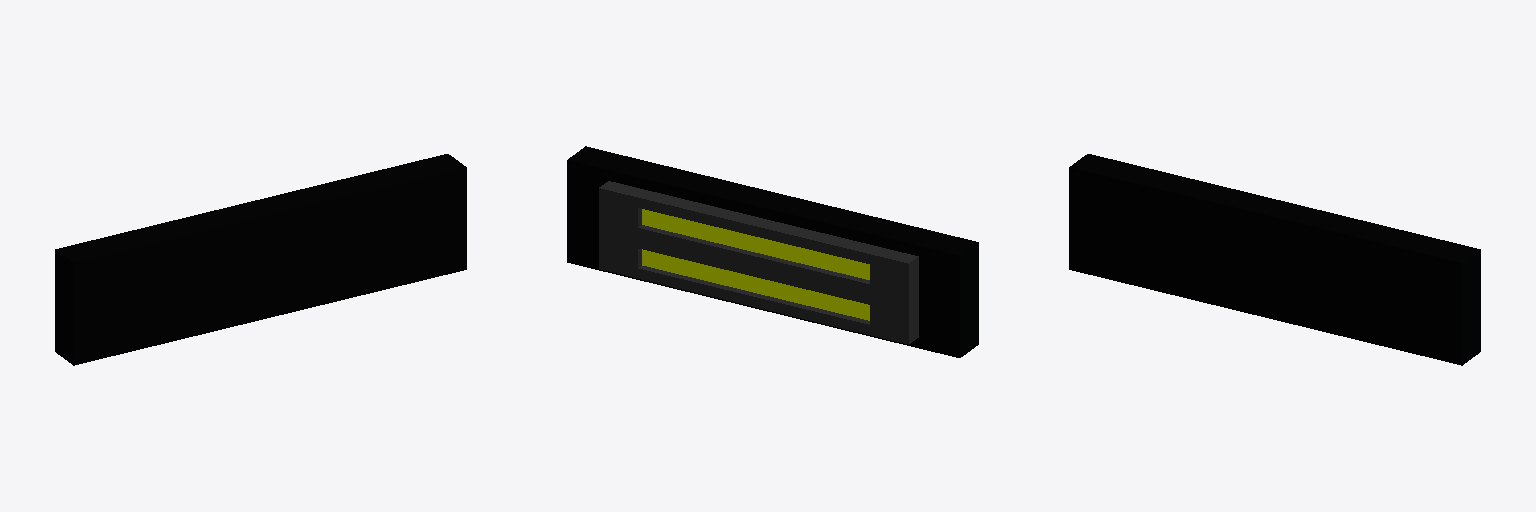
Rendered from light.obj.
The picture shows the model from 3 angles: view 1: azimuth 30°, elevation 25°; view 2: azimuth 150°, elevation 25°; view 3: azimuth 330°, elevation 25°; orthographic projection.
Parts seen in each view (by area): view 1: Cube; view 2: Cube; view 3: Cube.
Part boxes in pixels (x1,y1,x2,y2): Cube: (55,154,466,365); Cube: (567,146,978,357); Cube: (1069,154,1480,365).
Size of the model in its own units: 2 by 0.5 by 0.25.